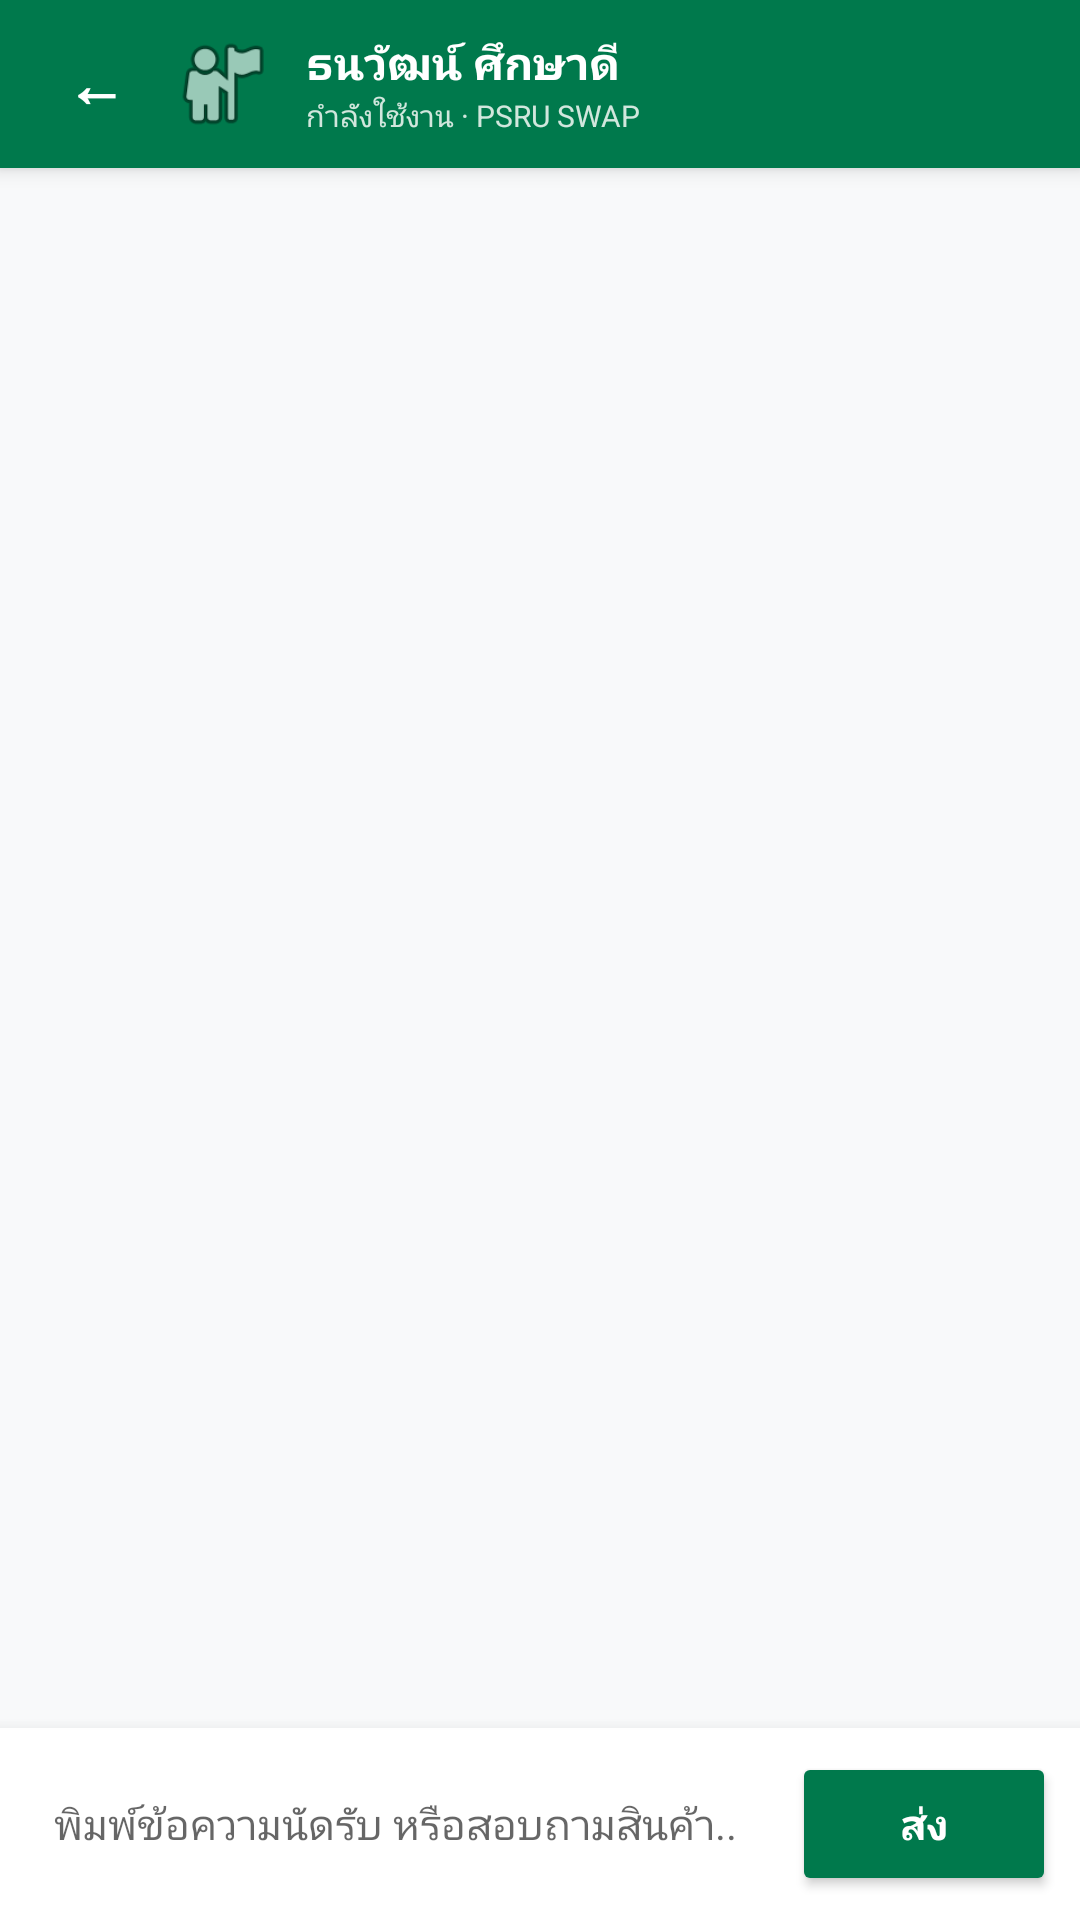

Named icons in this screenshot (1080x1920) and their bounding boxes, (x1, y1, x2, y2):
myplaces: (183, 44, 263, 124)
